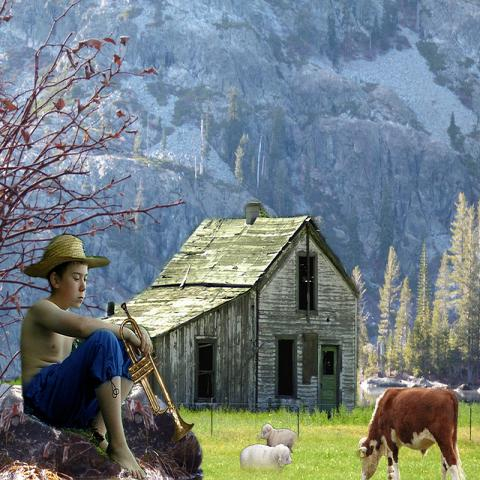car: (453, 383, 480, 403)
